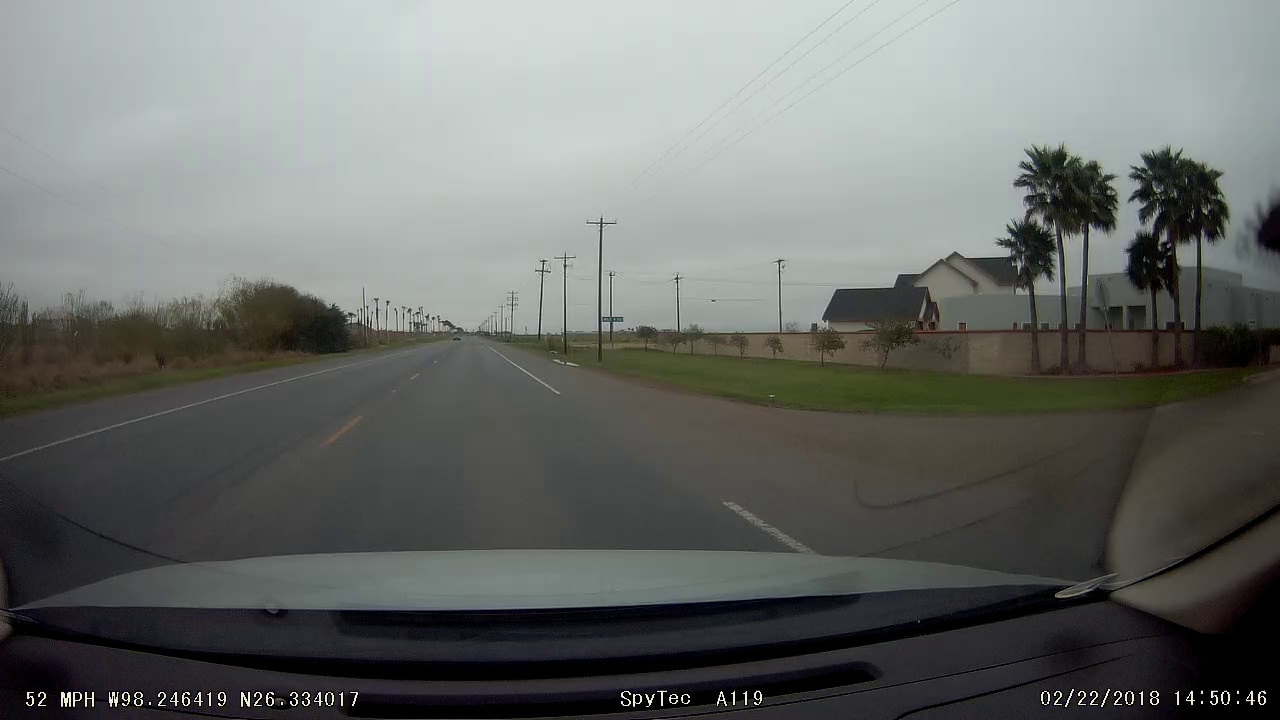blurredLine: (311, 421, 374, 460)
